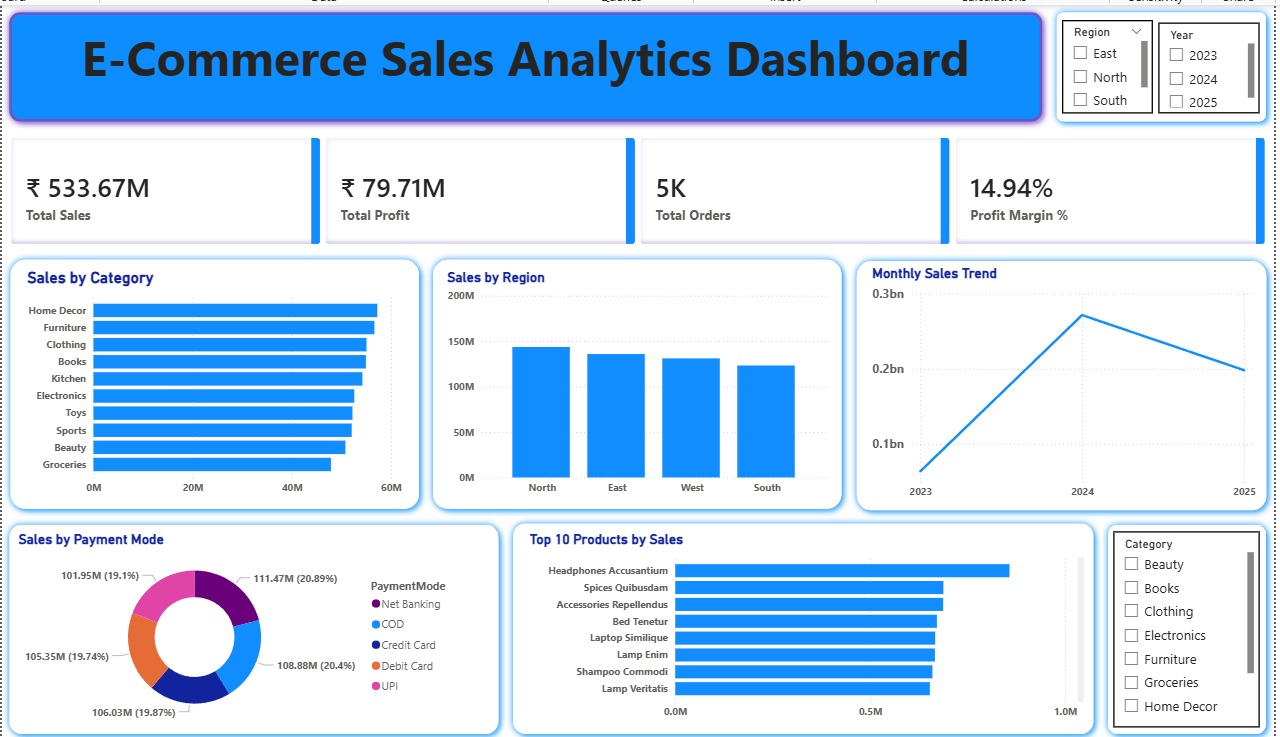

What the dashboard file says about the page in this screenshot:
{"tool":"powerbi","page":{"name":"Page 1","canvas":[1555,900],"ordinal":0},"visuals":[{"type":"shape","box":[1343.6,626.7,210.9,273.6],"z":0},{"type":"shape","box":[1280.9,0,273.6,151.3],"z":1000},{"type":"shape","box":[616,625.2,727.6,275.1],"z":2000},{"type":"shape","box":[0,626.7,616,273.6],"z":3000},{"type":"shape","box":[1036.3,303.8,518.9,322.7],"z":4000},{"type":"shape","box":[1.4,303.3,517.3,322.5],"z":5000},{"type":"cardVisual","fields":{"Data":["dim_customer.Total Sales","dim_customer.Total Profit","dim_customer.Total Orders","dim_customer.Profit Margin %"]},"box":[0,151.1,1555.3,152.6],"z":6000},{"type":"shape","box":[0,0,1280.9,151.3],"z":7000},{"type":"textbox","box":[34.3,17.8,1213,105.7],"z":8000},{"type":"clusteredBarChart","title":"Sales by Category","fields":{"Category":["dim_product.Category"],"Y":["dim_customer.Total Sales"]},"box":[26.1,322.5,467.9,285.4],"z":9000},{"type":"shape","box":[518.7,303.3,517.3,322.5],"z":10000},{"type":"clusteredColumnChart","title":"Sales by Region","fields":{"Category":["dim_location.Region"],"Y":["dim_customer.Total Sales"]},"box":[539.3,322.5,474.8,285.4],"z":11000},{"type":"lineChart","title":"Monthly Sales Trend","fields":{"Category":["dim_date.OrderDate.Variation.Date Hierarchy.Year","dim_date.OrderDate.Variation.Date Hierarchy.Month"],"Y":["dim_customer.Total Sales"]},"box":[1059.5,317.8,478.9,295.2],"z":12000},{"type":"donutChart","title":"Sales by Payment Mode","fields":{"Category":["dim_payment.PaymentMode"],"Y":["dim_customer.Total Sales"]},"box":[15.3,643.5,548.7,240],"z":13000},{"type":"clusteredBarChart","title":"Top 10 Products by Sales","fields":{"Category":["dim_product.ProductName"],"Y":["dim_customer.Total Sales"]},"box":[640.5,643.5,687.8,238.5],"z":14000},{"type":"slicer","fields":{"Values":["dim_location.Region"]},"box":[1296.2,18.3,111.6,114.6],"z":15000},{"type":"slicer","fields":{"Values":["dim_date.Year"]},"box":[1413.9,21.4,123.8,111.6],"z":16000},{"type":"slicer","fields":{"Values":["dim_product.Category"]},"box":[1358.9,643.5,178.8,240],"z":17000}]}

Visuals, with their boxes in screenshot pixels (x1, y1, x2, y2):
shape: {"x1": 1094, "y1": 518, "x2": 1271, "y2": 736}
shape: {"x1": 1042, "y1": 0, "x2": 1271, "y2": 120}
shape: {"x1": 486, "y1": 517, "x2": 1094, "y2": 736}
shape: {"x1": 0, "y1": 518, "x2": 486, "y2": 736}
shape: {"x1": 837, "y1": 248, "x2": 1272, "y2": 518}
shape: {"x1": 0, "y1": 247, "x2": 404, "y2": 517}
cardVisual - dim_customer.Total Sales x dim_customer.Total Profit: {"x1": 0, "y1": 120, "x2": 1272, "y2": 247}
shape: {"x1": 0, "y1": 0, "x2": 1042, "y2": 120}
textbox: {"x1": 0, "y1": 8, "x2": 1014, "y2": 97}
"Sales by Category" clusteredBarChart: {"x1": 0, "y1": 263, "x2": 383, "y2": 502}
shape: {"x1": 404, "y1": 247, "x2": 837, "y2": 517}
"Sales by Region" clusteredColumnChart: {"x1": 421, "y1": 263, "x2": 819, "y2": 502}
"Monthly Sales Trend" lineChart: {"x1": 857, "y1": 259, "x2": 1257, "y2": 506}
"Sales by Payment Mode" donutChart: {"x1": 0, "y1": 532, "x2": 442, "y2": 733}
"Top 10 Products by Sales" clusteredBarChart: {"x1": 506, "y1": 532, "x2": 1082, "y2": 731}
slicer - dim_location.Region: {"x1": 1055, "y1": 9, "x2": 1148, "y2": 105}
slicer - dim_date.Year: {"x1": 1153, "y1": 11, "x2": 1257, "y2": 105}
slicer - dim_product.Category: {"x1": 1107, "y1": 532, "x2": 1257, "y2": 733}
